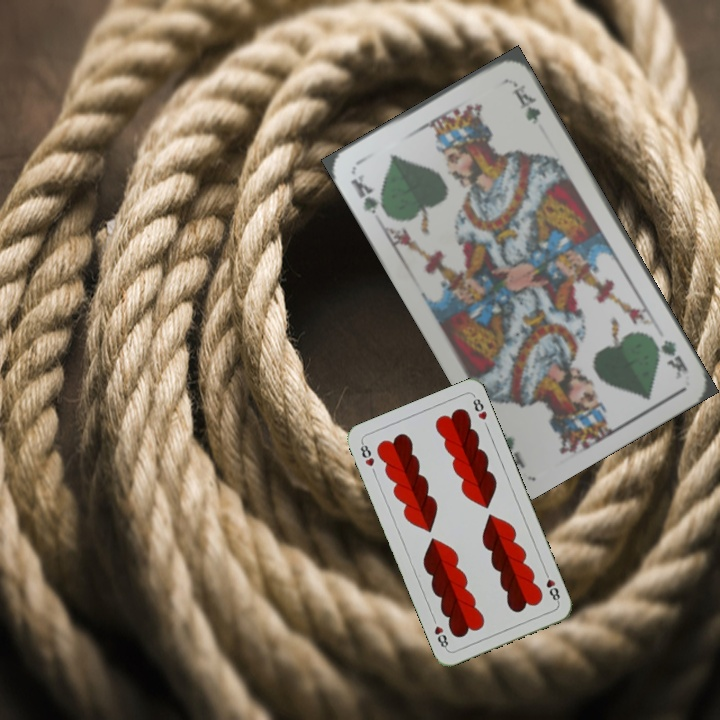GK: (647, 332, 691, 382), (346, 169, 390, 218)
H8: (540, 567, 563, 606), (356, 438, 377, 469)
